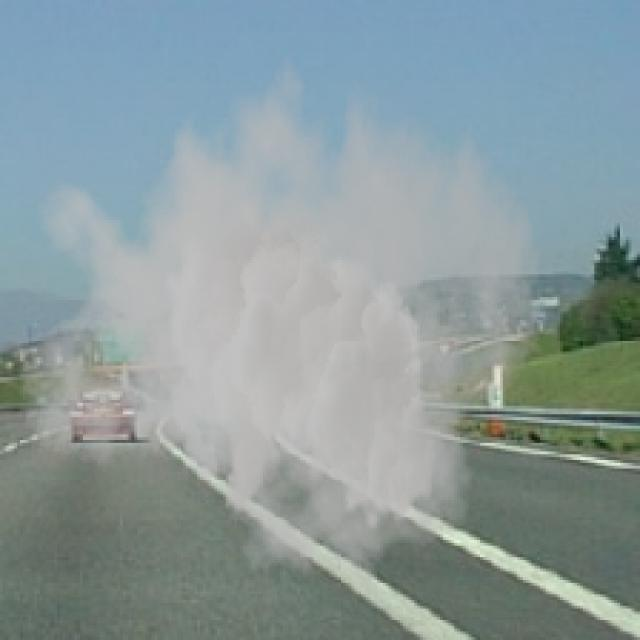smoke: (17, 29, 543, 594)
